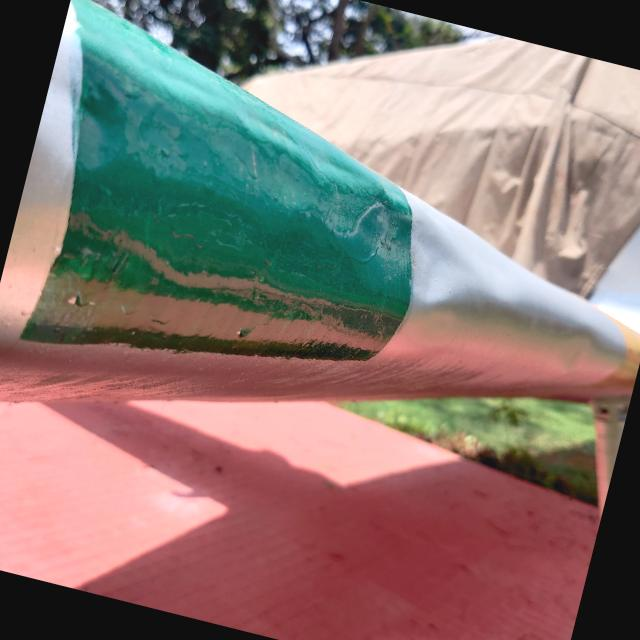dent: (334, 180, 515, 343), (24, 50, 170, 211)
